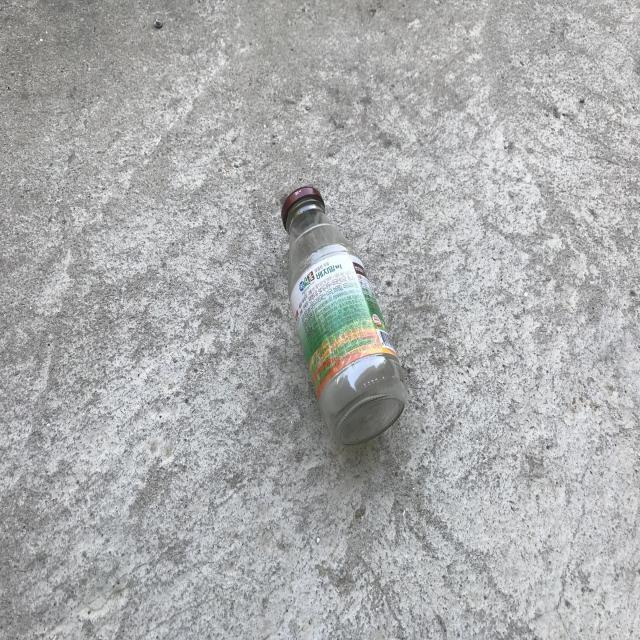glass: (281, 186, 407, 445)
